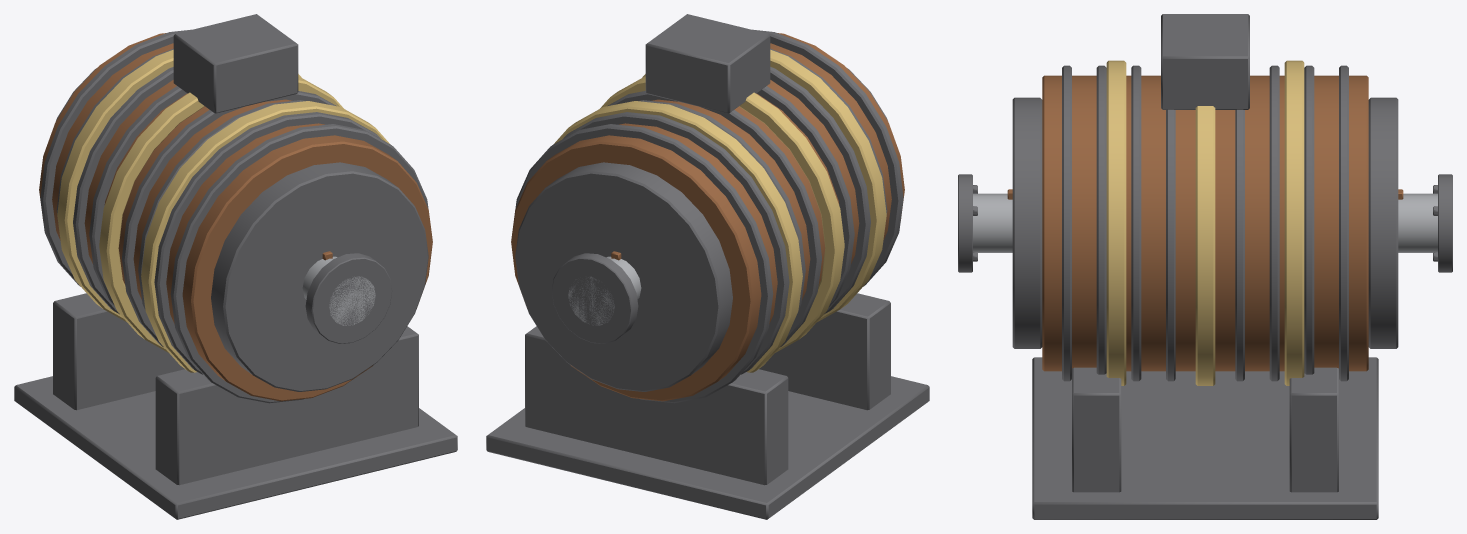
Rendered from feElectricMotor2.fbx.
The picture shows the model from 3 angles, left to right: view 1: azimuth 30°, elevation 25°; view 2: azimuth 150°, elevation 25°; view 3: azimuth 270°, elevation 25°; orthographic projection. The views are drawn at different scales.
Parts seen in each view (by area): view 1: feElectricMotor2_Base, FeSpin_Motor2; view 2: feElectricMotor2_Base, FeSpin_Motor2; view 3: feElectricMotor2_Base, FeSpin_Motor2.
Boxes of the visible parts, box(x1,y1,x2,y2) form: feElectricMotor2_Base: box(14, 14, 457, 519); FeSpin_Motor2: box(302, 251, 392, 343); feElectricMotor2_Base: box(486, 14, 929, 519); FeSpin_Motor2: box(551, 251, 641, 343); feElectricMotor2_Base: box(1012, 14, 1398, 519); FeSpin_Motor2: box(958, 174, 1452, 272).
Bounding box in the file's own units: 0.7 × 0.92 × 1.
